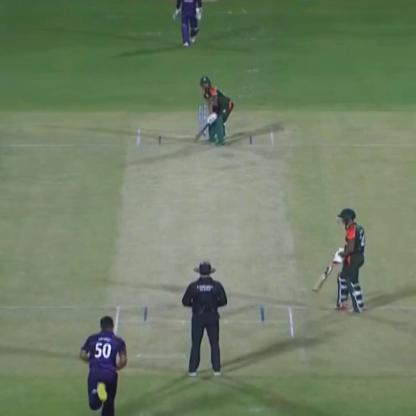bat: (309, 253, 334, 303), (191, 107, 217, 142)
pitch: (116, 118, 299, 347)
